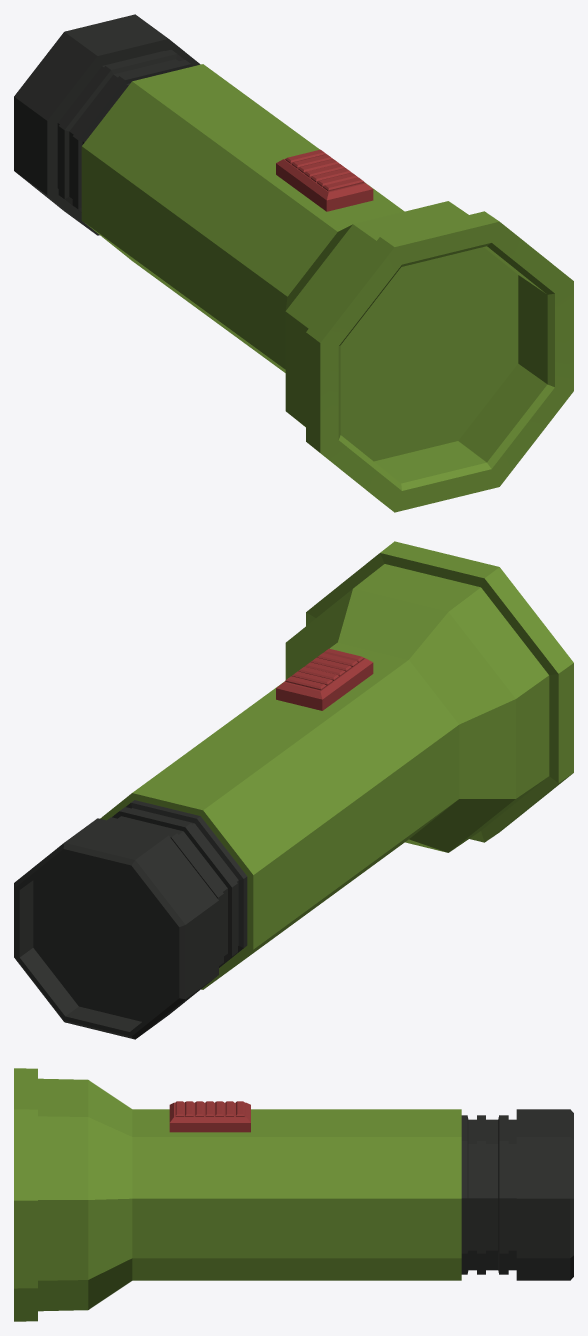
File: flashlight_low.fbx
3 renders of one model, top to bottom at view 1: azimuth 30°, elevation 25°; view 2: azimuth 150°, elevation 25°; view 3: azimuth 270°, elevation 25°, orthographic. The views are drawn at different scales.
Parts seen in each view (by area): view 1: flashlight_body, flashlight_back, flashlight_buttons; view 2: flashlight_body, flashlight_back, flashlight_buttons; view 3: flashlight_body, flashlight_back, flashlight_buttons.
Part boxes in pixels (x1,y1,x2,y2): flashlight_body: (81,64,573,512); flashlight_back: (14,14,200,235); flashlight_buttons: (276,149,373,211); flashlight_body: (100,541,573,989); flashlight_back: (14,800,247,1039); flashlight_buttons: (276,648,373,710); flashlight_body: (14,1068,461,1321); flashlight_back: (461,1109,573,1280); flashlight_buttons: (169,1101,250,1132).
Size of the model in its own units: 17.98 by 17.98 by 42.94.
